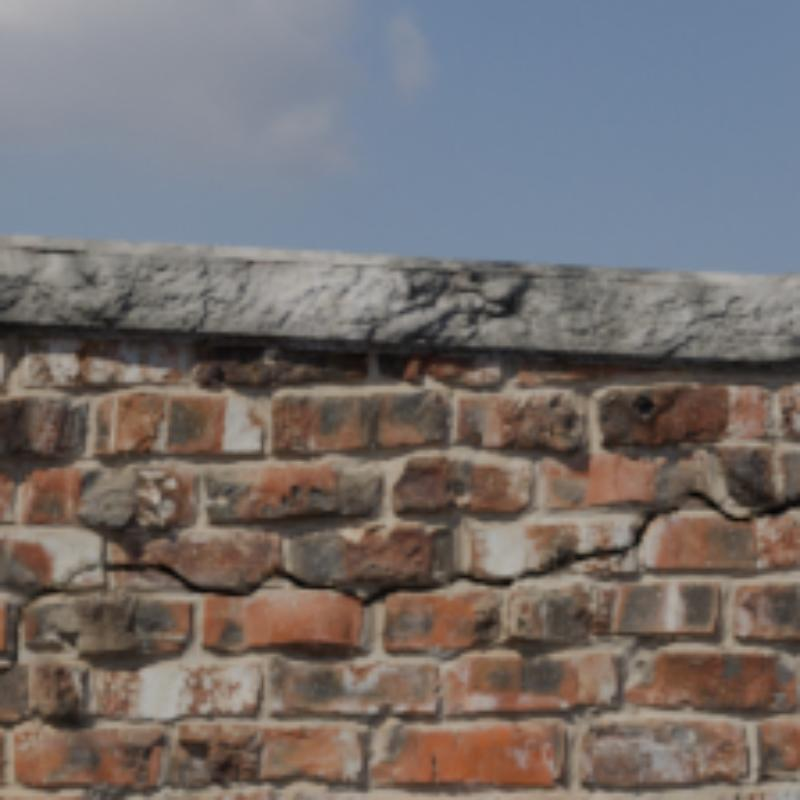crack: (0, 561, 513, 671), (518, 489, 796, 575)
